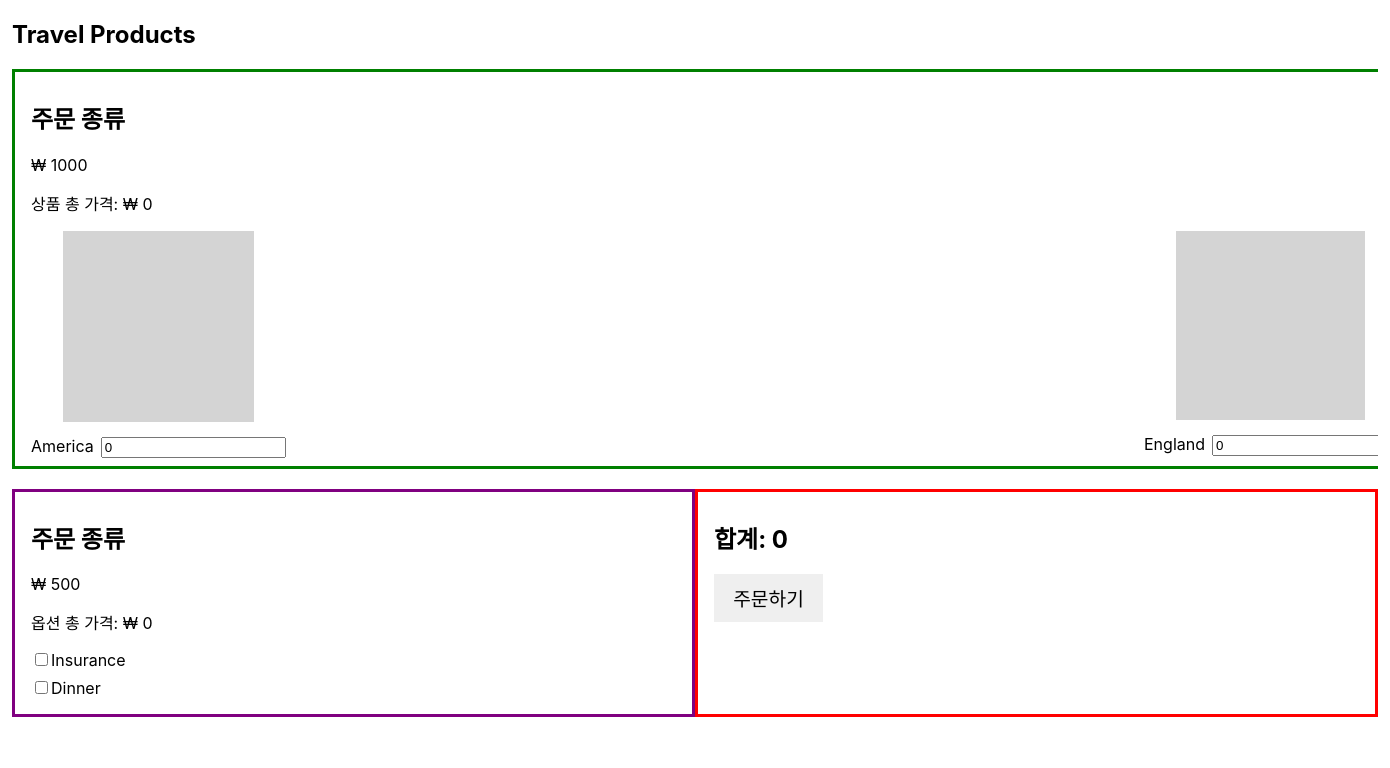
Test: total price of goods and options › Updating total price when adding one option
What coordinates should you click on to do the following:
click the checkbox labelled "Insurance"
I would click on:
 (42, 660)
Its box is [35,654,48,666].
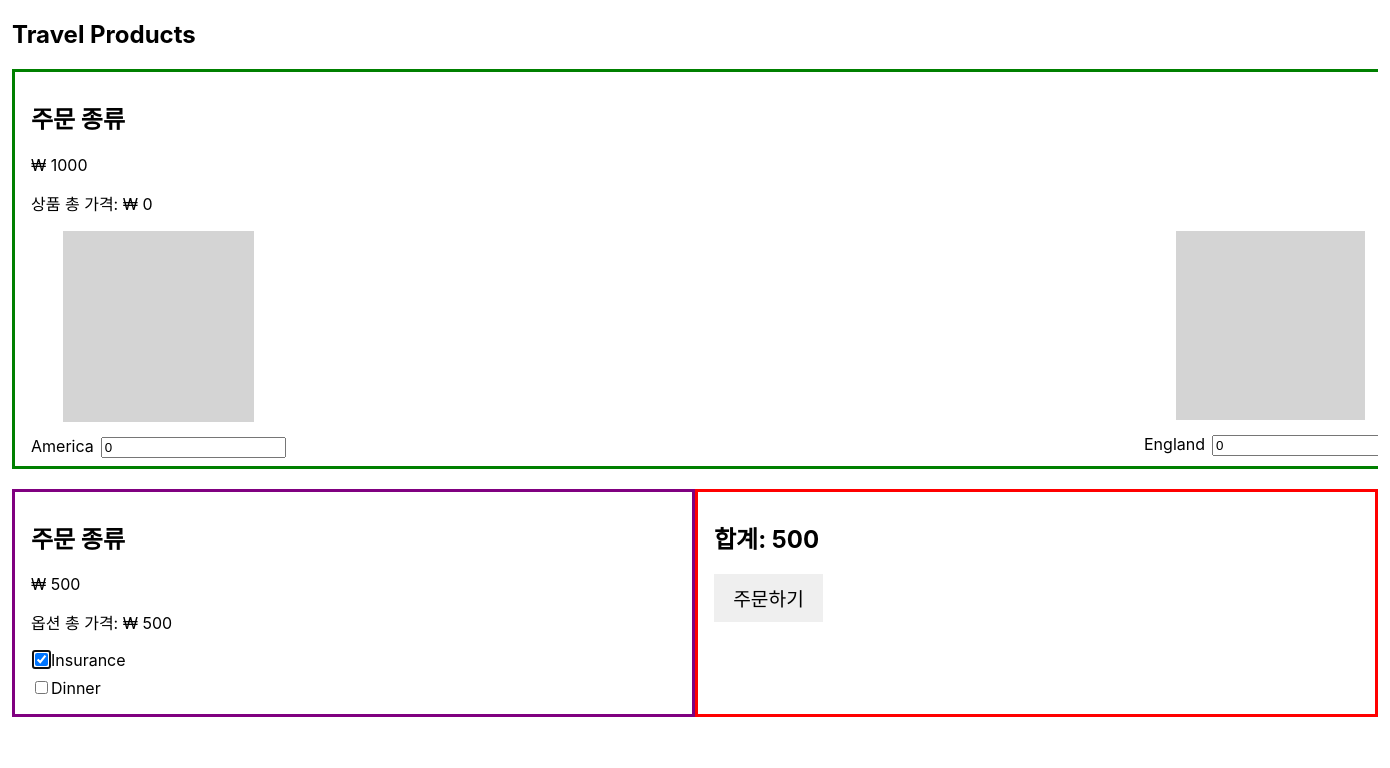
Result: the heading "합계: 500" is shown at [714,525,819,554]
